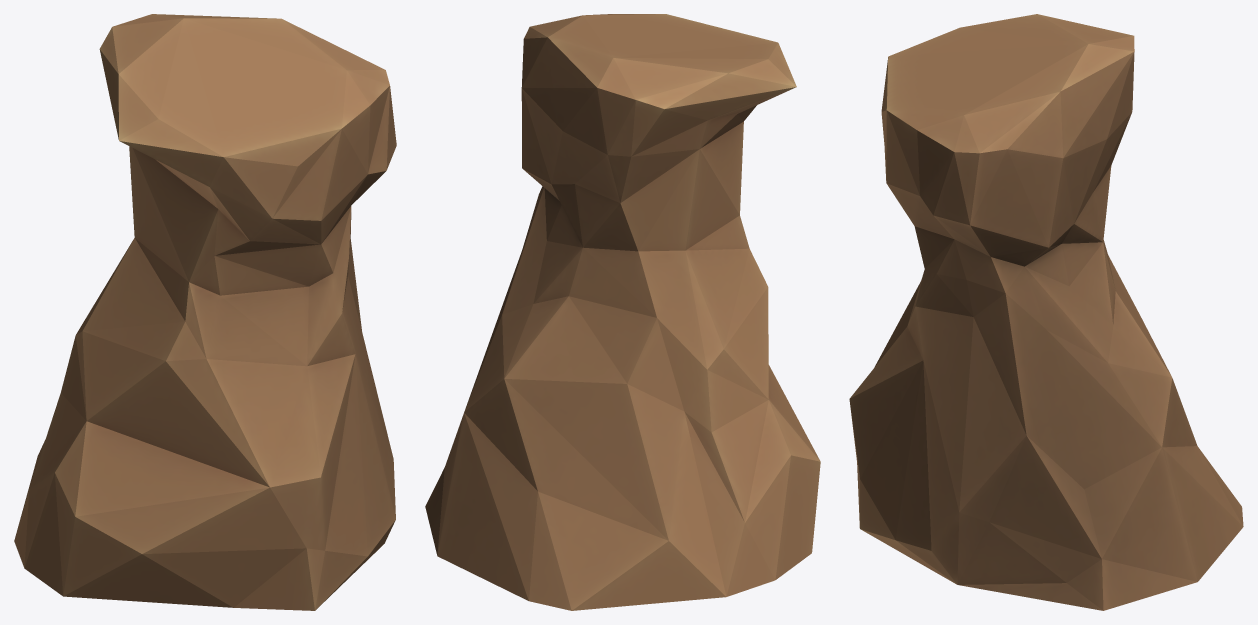
Rendered from Mountain rock_20.fbx.
The picture shows the model from 3 angles, left to right: view 1: azimuth 30°, elevation 25°; view 2: azimuth 150°, elevation 25°; view 3: azimuth 270°, elevation 25°; orthographic projection. The views are drawn at different scales.
Visible parts, largest first — view 1: Mountain rock_20; view 2: Mountain rock_20; view 3: Mountain rock_20.
Boxes of the visible parts, x1,y1,x2,y2 form: Mountain rock_20: [14, 14, 396, 610]; Mountain rock_20: [425, 14, 820, 610]; Mountain rock_20: [849, 14, 1243, 610].
Bounding box in the file's own units: 225 × 310 × 231.
